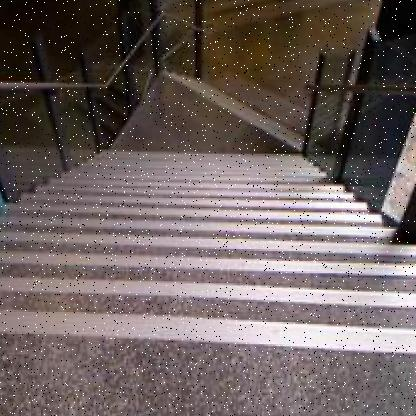stair_down: (0, 185, 399, 348)
